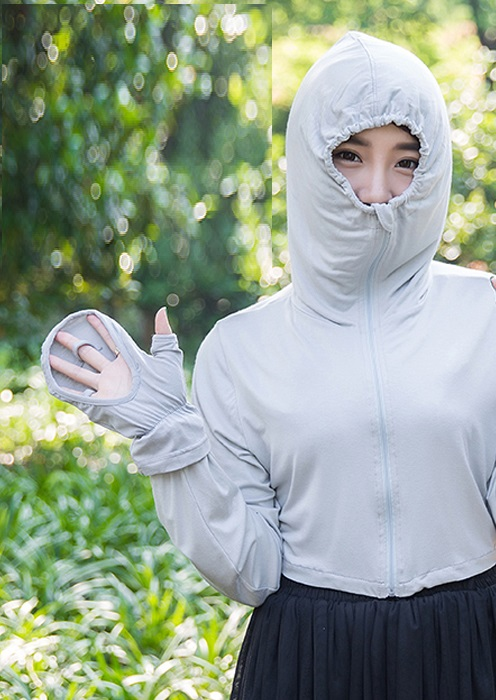face_mask: (318, 90, 427, 279)
